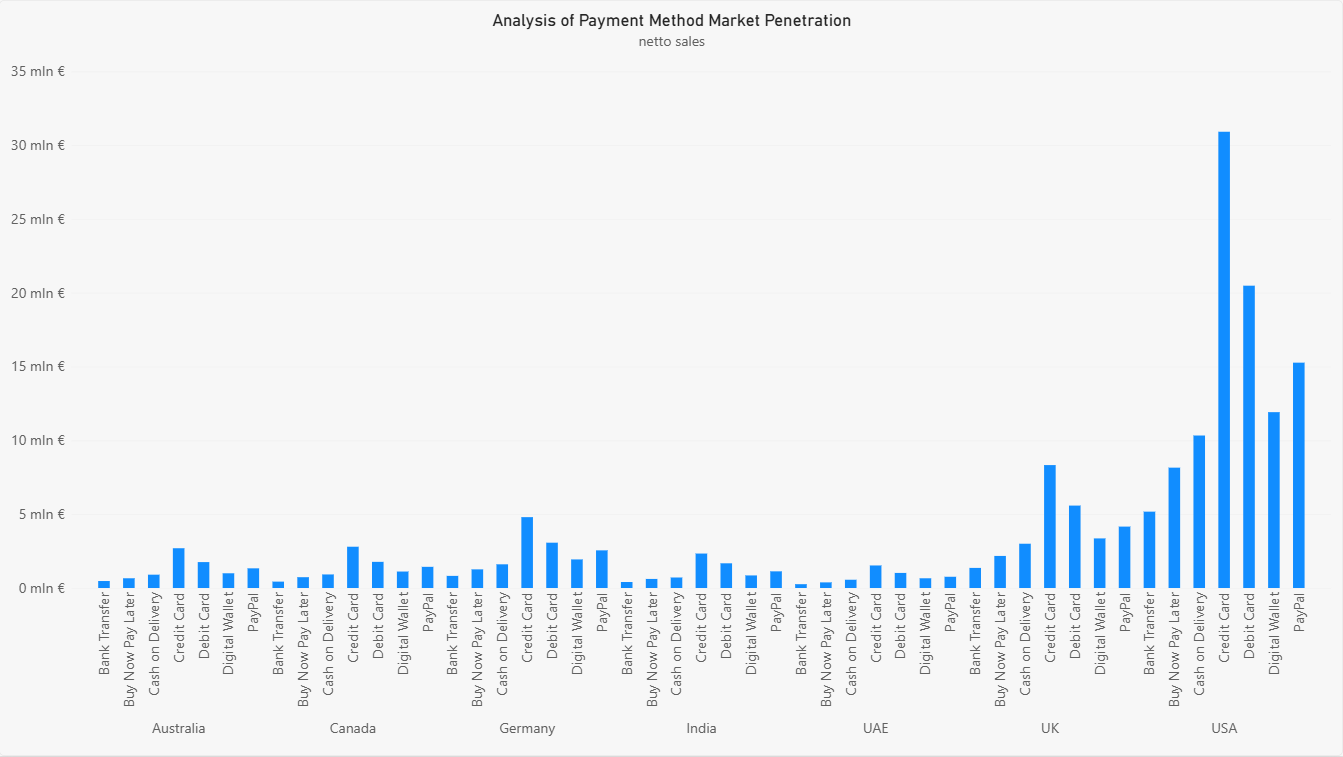

The page's visual inventory and layout, read from the dashboard file:
{"tool":"powerbi","page":{"name":"Strona 4","canvas":[1920,1080],"ordinal":3},"visuals":[{"type":"columnChart","title":"Analysis of Payment Method Market Penetration","fields":{"Category":["vw_percentage_share_payment_method_analysis_202609261514.customer_country","vw_percentage_share_payment_method_analysis_202609261514.payment_method"],"Y":["Sum(vw_percentage_share_payment_method_analysis_202609261514.net_sales_per_method)"]},"box":[0,0,1920,1080],"z":0}]}

Visuals, with their boxes in screenshot pixels (x1, y1, x2, y2), scaled from the page's 1920x1080 canvas onto the 1343x757 screenshot:
"Analysis of Payment Method Market Penetration" columnChart: detection(0, 0, 1342, 756)
